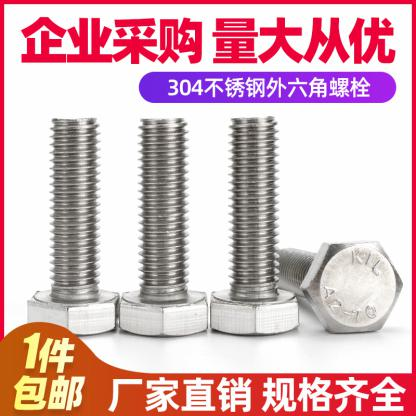FOD: (25, 114, 121, 338), (209, 116, 302, 337), (118, 116, 209, 338), (270, 236, 405, 336)
